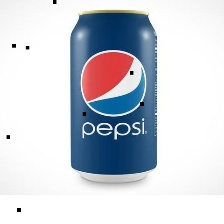can: (64, 4, 161, 184)
